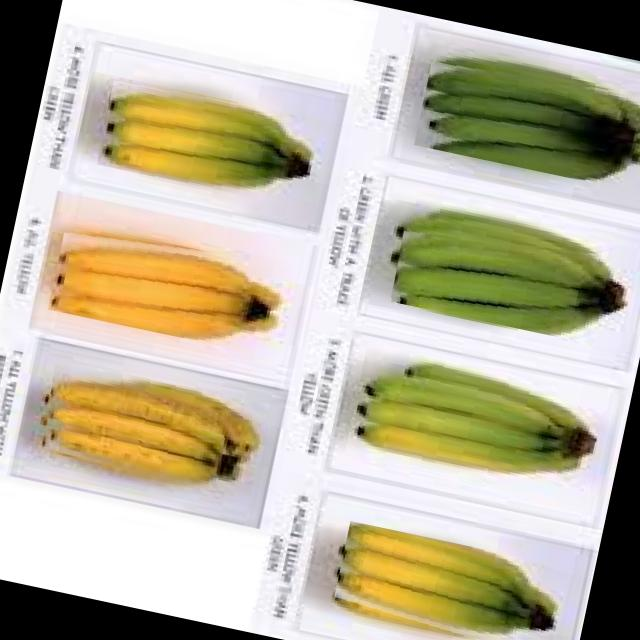Organic: (342, 342, 610, 508), (387, 209, 640, 352), (46, 215, 290, 356), (412, 48, 640, 195), (32, 358, 268, 499), (94, 74, 320, 208), (329, 520, 574, 640)
